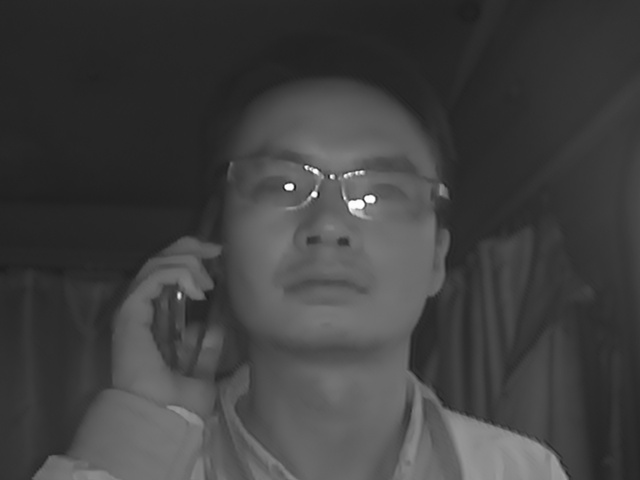hand: (103, 235, 236, 430)
